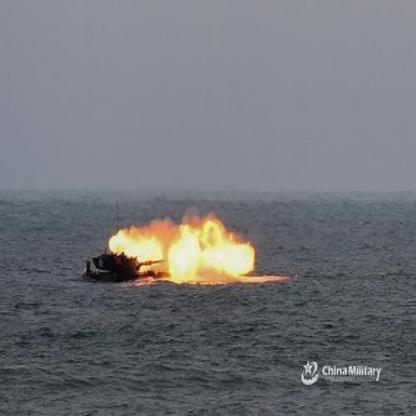Fire: (106, 207, 257, 282)
